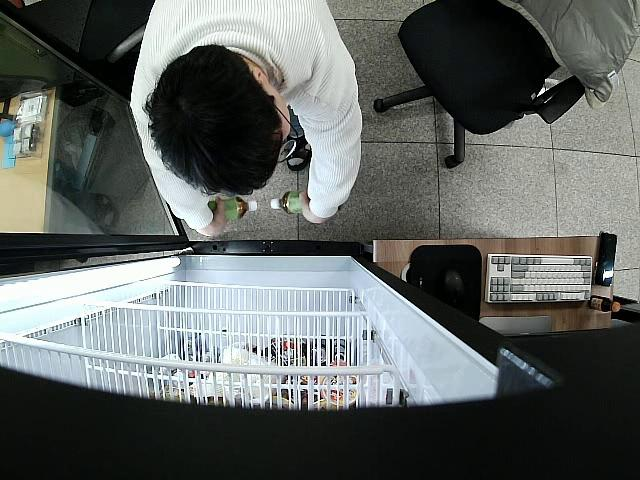19_17cha: (207, 195, 261, 221), (271, 189, 308, 215)
